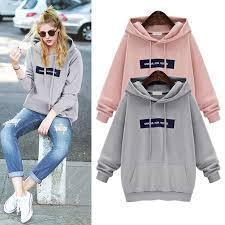sweater: (95, 75, 220, 205), (93, 17, 222, 131), (17, 38, 89, 123)
